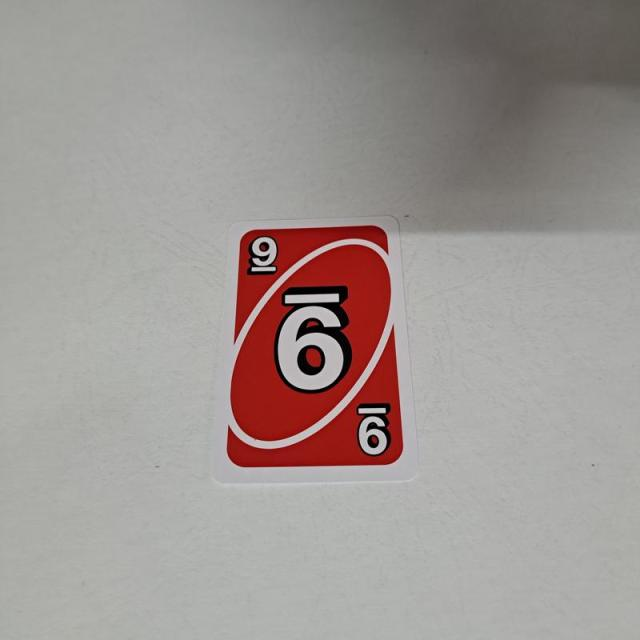Number_9: (243, 234, 282, 276)
Red_Card: (224, 223, 407, 472)
